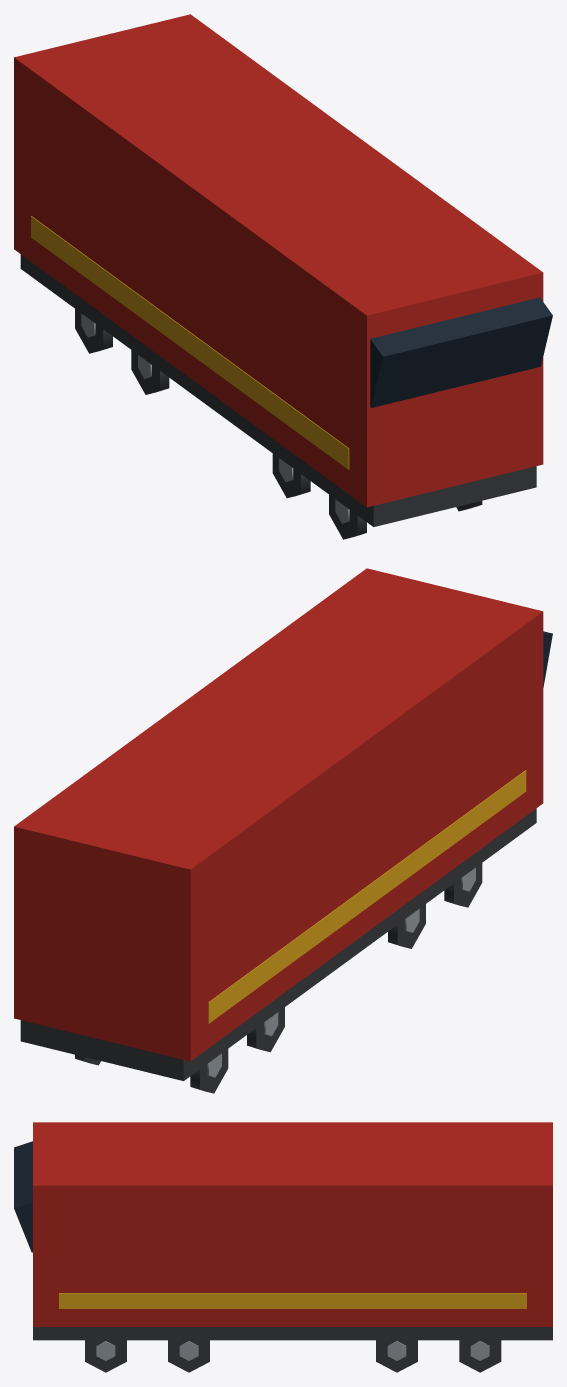
The model's file is veh_ground_locomotive_a07_lod1.glb.
3 views of the same model, one above another, from view 1: azimuth 30°, elevation 25°; view 2: azimuth 150°, elevation 25°; view 3: azimuth 270°, elevation 25° (orthographic). The views are drawn at different scales.
Parts seen in each view (by area): view 1: body, wheel_4, wheel_2, wheel_0, wheel_6; view 2: body, wheel_0, wheel_6, wheel_2, wheel_4; view 3: body, wheel_1, wheel_3, wheel_5, wheel_7.
Part boxes in pixels (bbox=[...]): body: bbox=[14, 14, 552, 526]; wheel_4: bbox=[272, 453, 310, 498]; wheel_2: bbox=[131, 350, 169, 394]; wheel_0: bbox=[75, 309, 112, 353]; wheel_6: bbox=[329, 495, 366, 539]; body: bbox=[14, 568, 552, 1080]; wheel_0: bbox=[190, 1049, 228, 1093]; wheel_6: bbox=[444, 863, 482, 907]; wheel_2: bbox=[247, 1007, 284, 1052]; wheel_4: bbox=[388, 904, 425, 948]; body: bbox=[14, 1122, 552, 1340]; wheel_1: bbox=[459, 1340, 501, 1372]; wheel_3: bbox=[376, 1340, 417, 1372]; wheel_5: bbox=[168, 1340, 209, 1372]; wheel_7: bbox=[85, 1340, 126, 1372].
Size of the model in its own units: 2.62 by 3.75 by 9.33.
